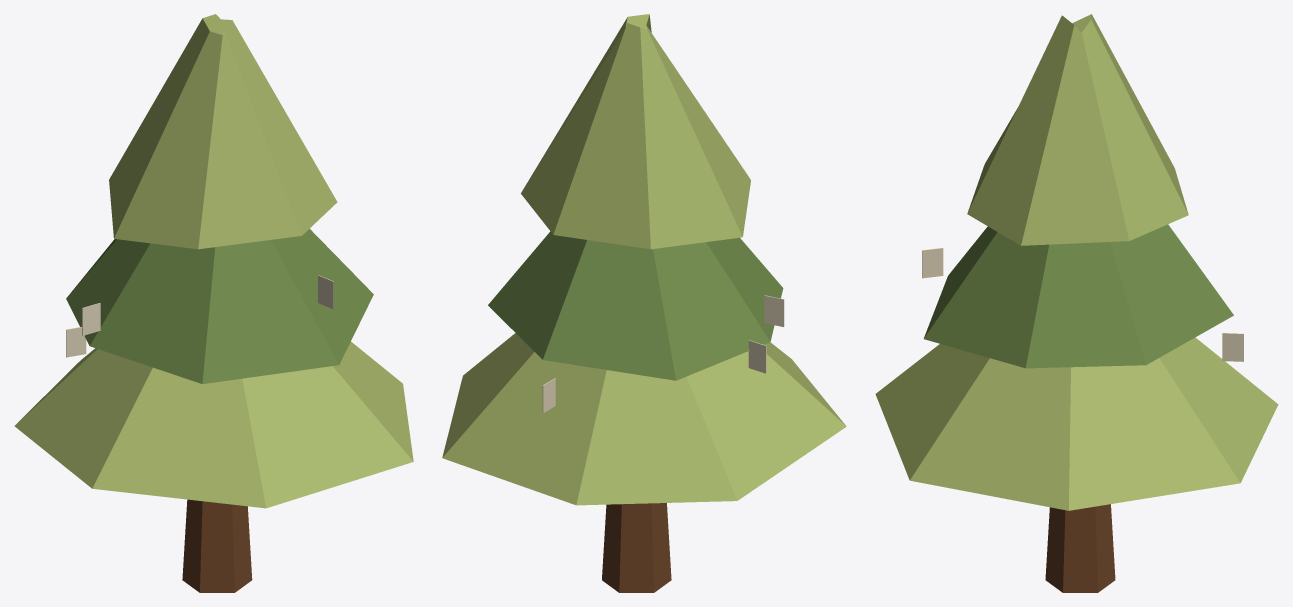
File: paper_tree1.glb
3 renders of one model, left to right at view 1: azimuth 30°, elevation 25°; view 2: azimuth 150°, elevation 25°; view 3: azimuth 270°, elevation 25°, orthographic.
Visible parts, largest first — view 1: paper_tree1; view 2: paper_tree1; view 3: paper_tree1.
Boxes of the visible parts, x1,y1,x2,y2 form: paper_tree1: (14,14,413,592); paper_tree1: (442,14,846,592); paper_tree1: (875,14,1278,592).
Size of the model in its own units: 1.84 by 2.84 by 1.84.
